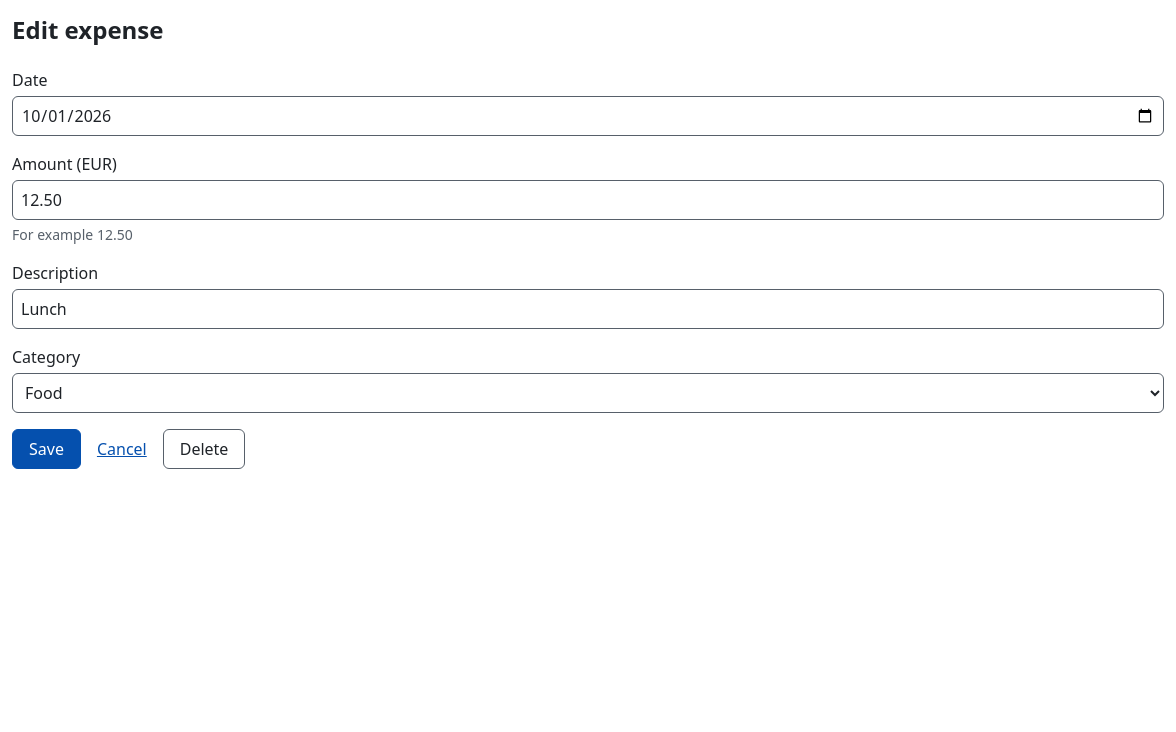
ExpenseFormView: edit › shows why a Reload failed and keeps the form
The width and height of the screenshot is (1176, 732).
Replace the text in the field with id "expense-description" with "Dinner": [588, 309] box [12, 289, 1164, 329]
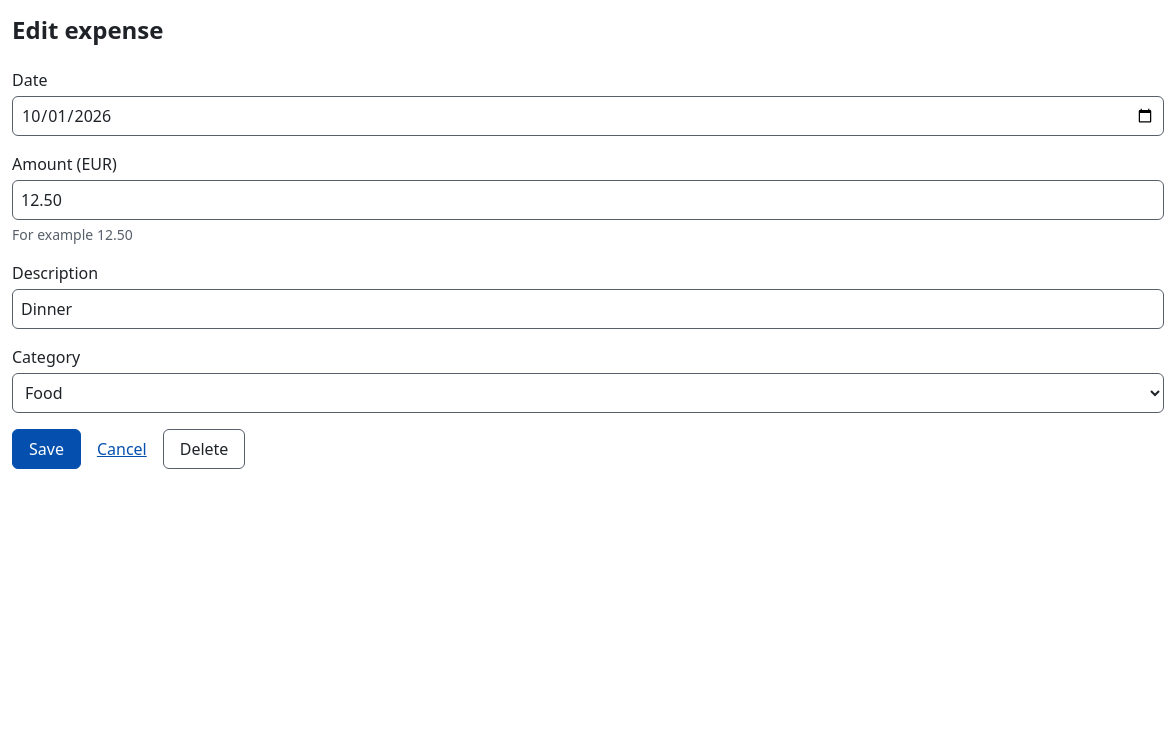
Submit the form, box [12, 68, 1164, 469]
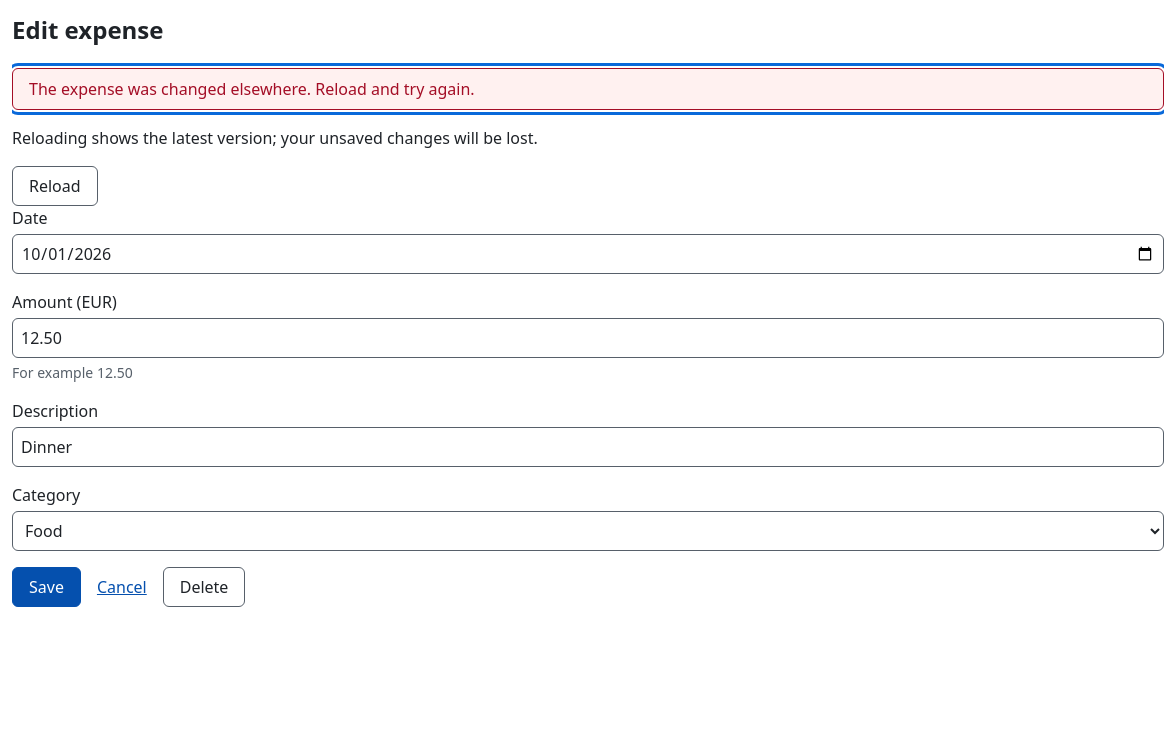
Click the button "Reload": [55, 186] box [12, 166, 98, 206]
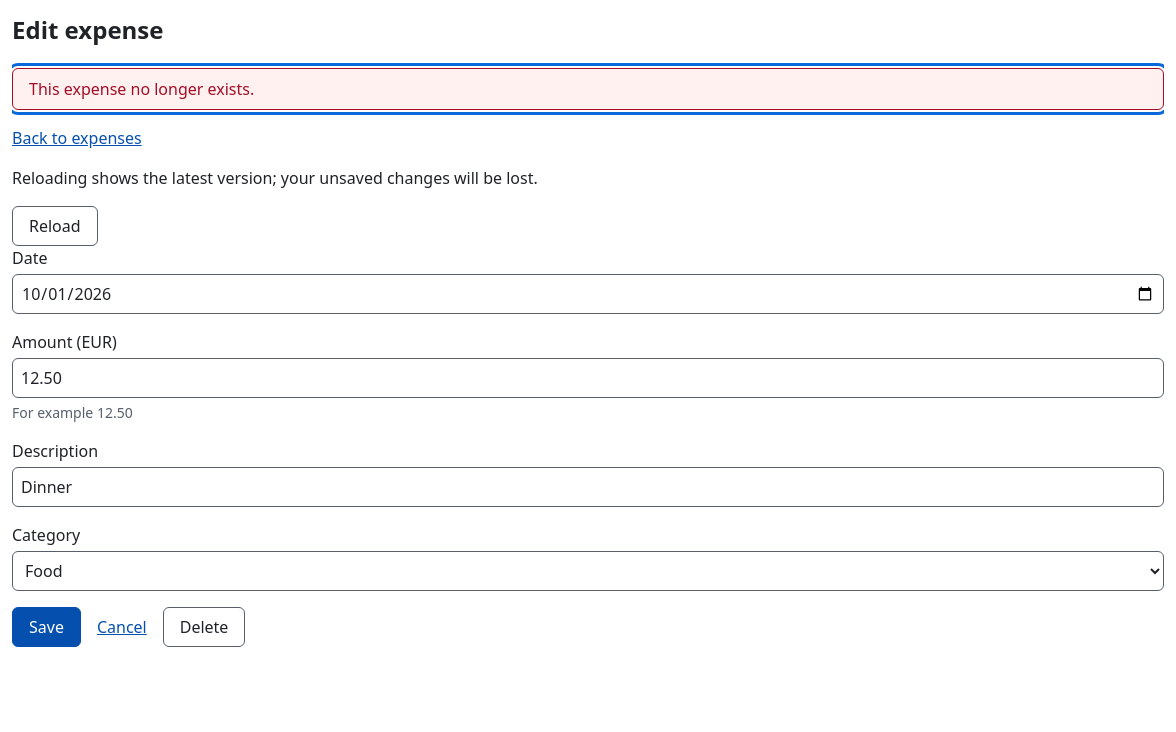
Now the button with class "reload" is shown, box [12, 206, 98, 246]
Now the message "This expense no longer exists." is shown, box [12, 68, 1164, 110]
Now the link to "/expenses" is shown, box [12, 127, 142, 149]
